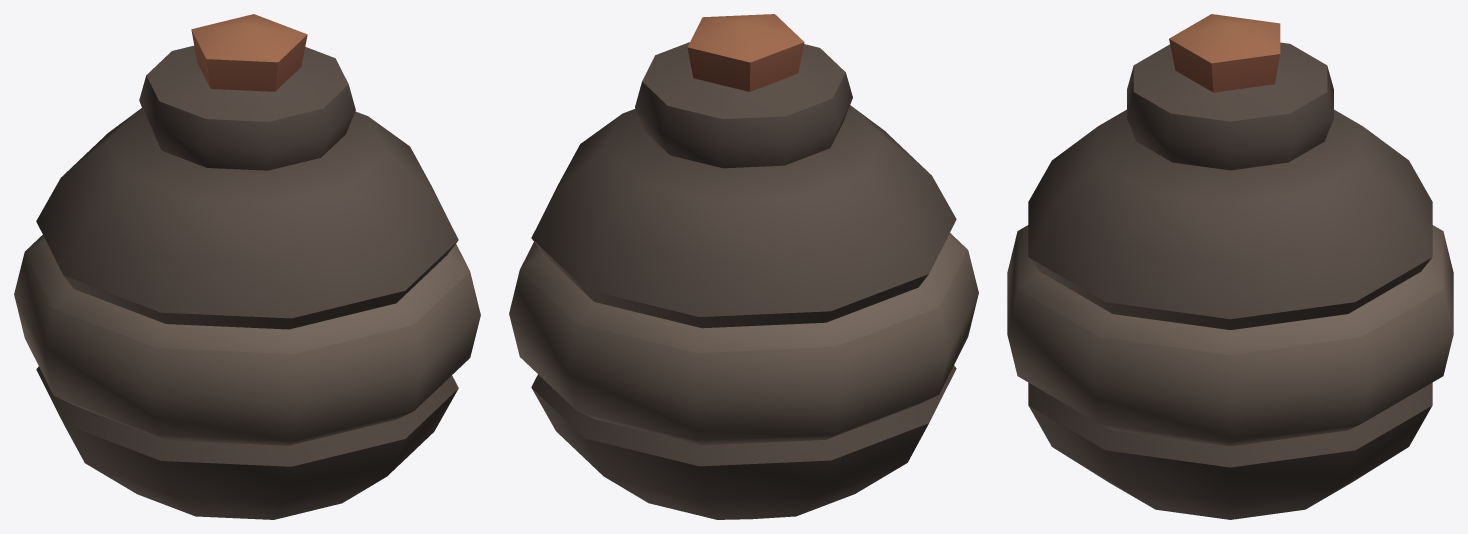
File: gear-smokebomb.glb
3 renders of one model, left to right at view 1: azimuth 30°, elevation 25°; view 2: azimuth 150°, elevation 25°; view 3: azimuth 270°, elevation 25°, orthographic.
Parts seen in each view (by area): view 1: smokebomb; view 2: smokebomb; view 3: smokebomb.
Boxes of the visible parts, x1,y1,x2,y2 form: smokebomb: (14, 14, 480, 519); smokebomb: (509, 14, 978, 519); smokebomb: (1007, 14, 1453, 519).
Size of the model in its own units: 0.3826 by 0.4231 by 0.3639.
